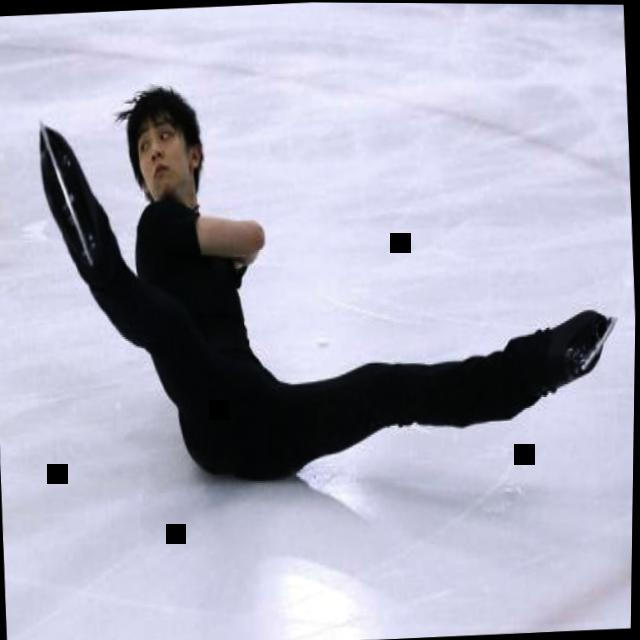Fall-Detected: (0, 31, 640, 540)
